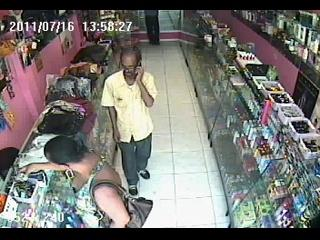Normal: (6, 135, 149, 226), (100, 46, 158, 196), (144, 10, 160, 46)
